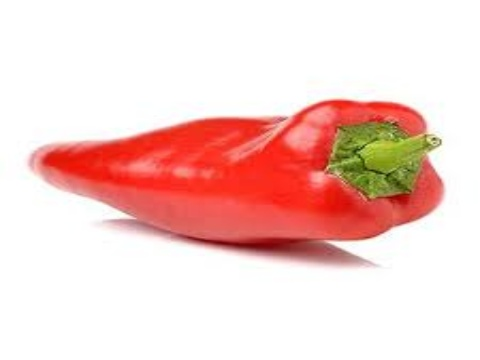Chilli: (16, 94, 459, 256)
